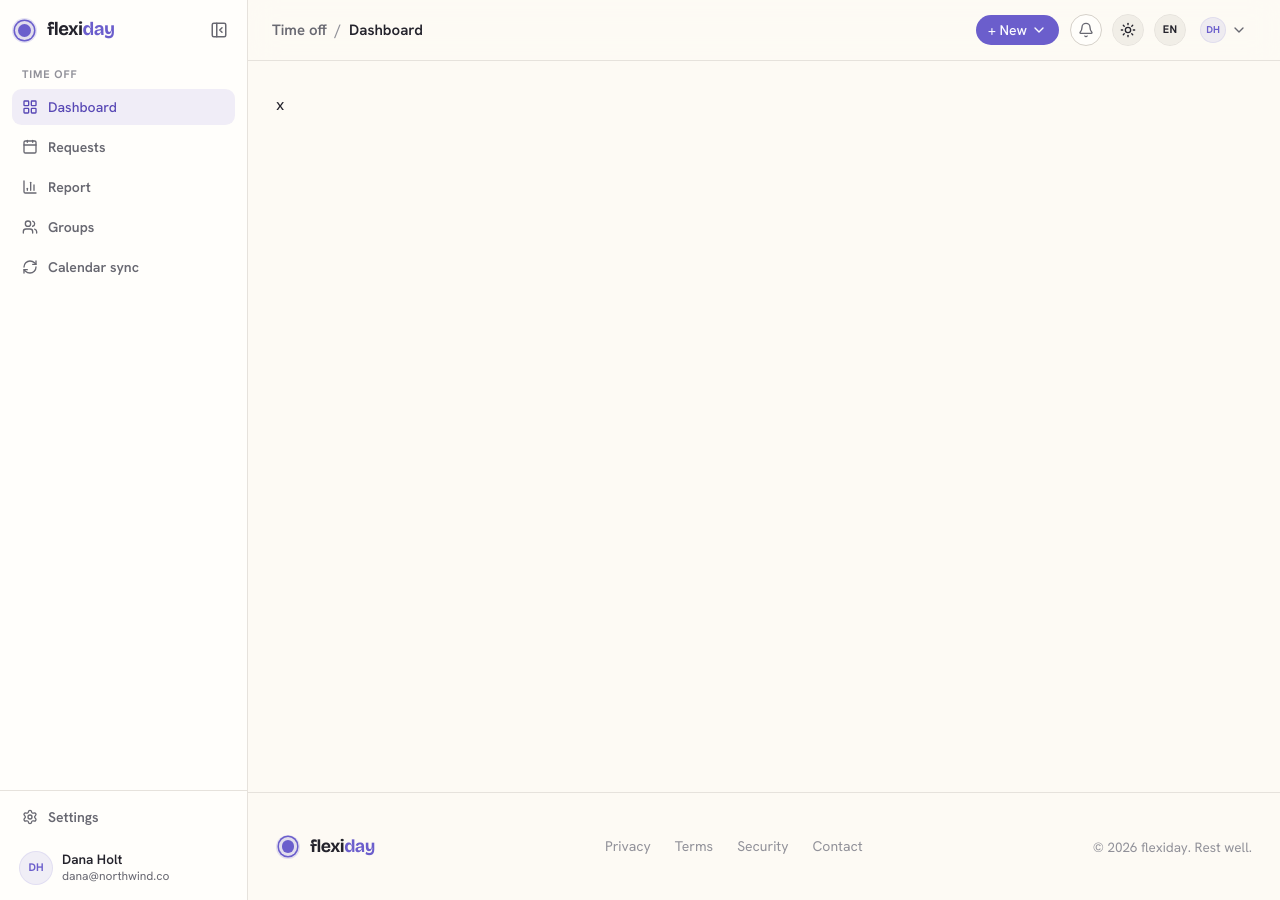
Scenario: AppShell › New menu › lists Time off request and Group event on /dashboard when a group can create
Click the button "+ New": (1018, 30) [975, 14, 1060, 46]
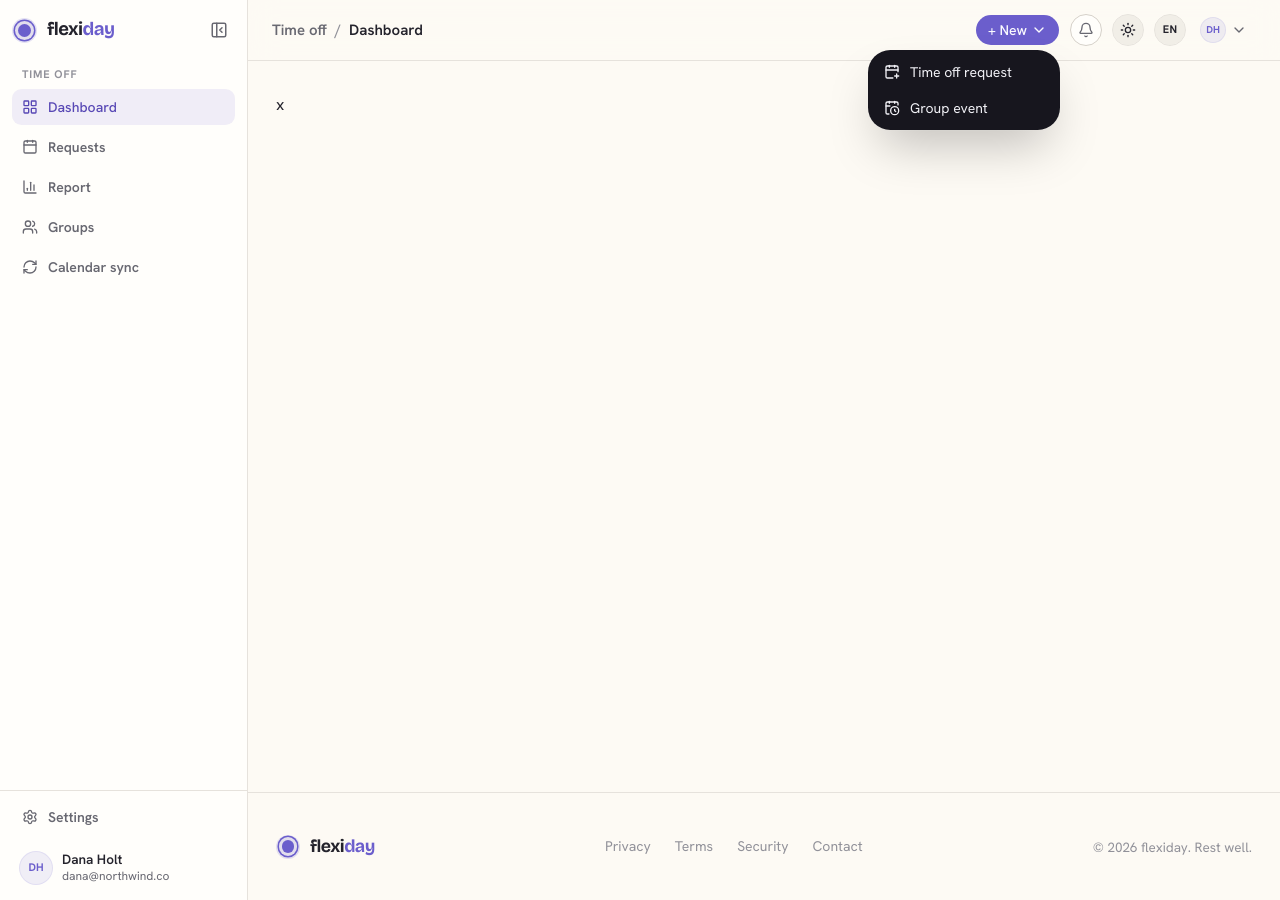
Now the menu items read "Time off request", "Group event", in this order, box [884, 63, 1012, 81]; [884, 99, 988, 117]
